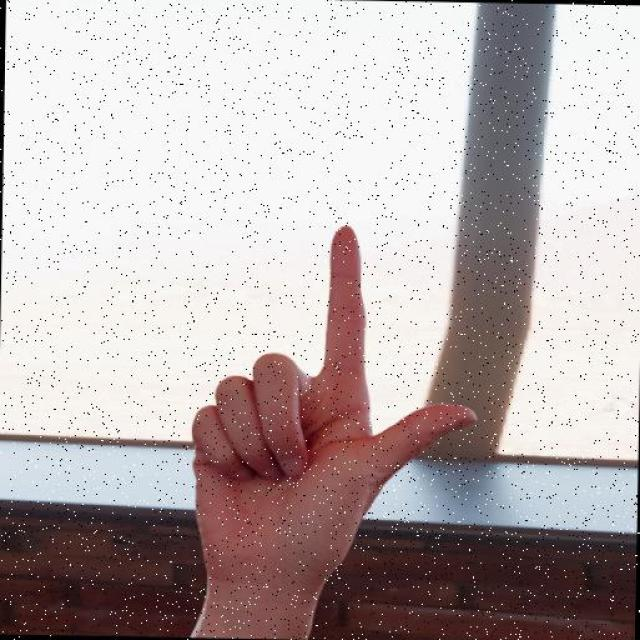L: (187, 220, 482, 589)
